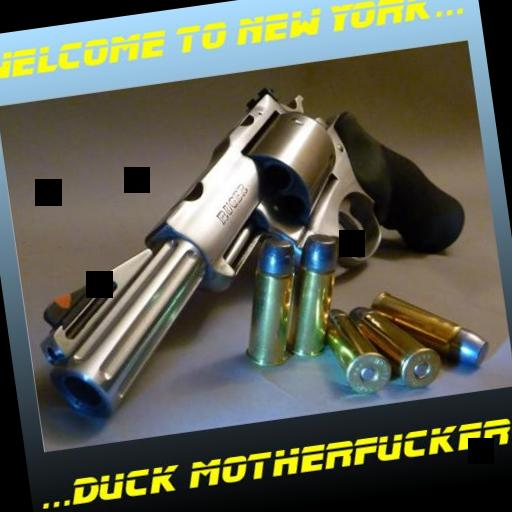Handgun: (6, 78, 482, 429)
